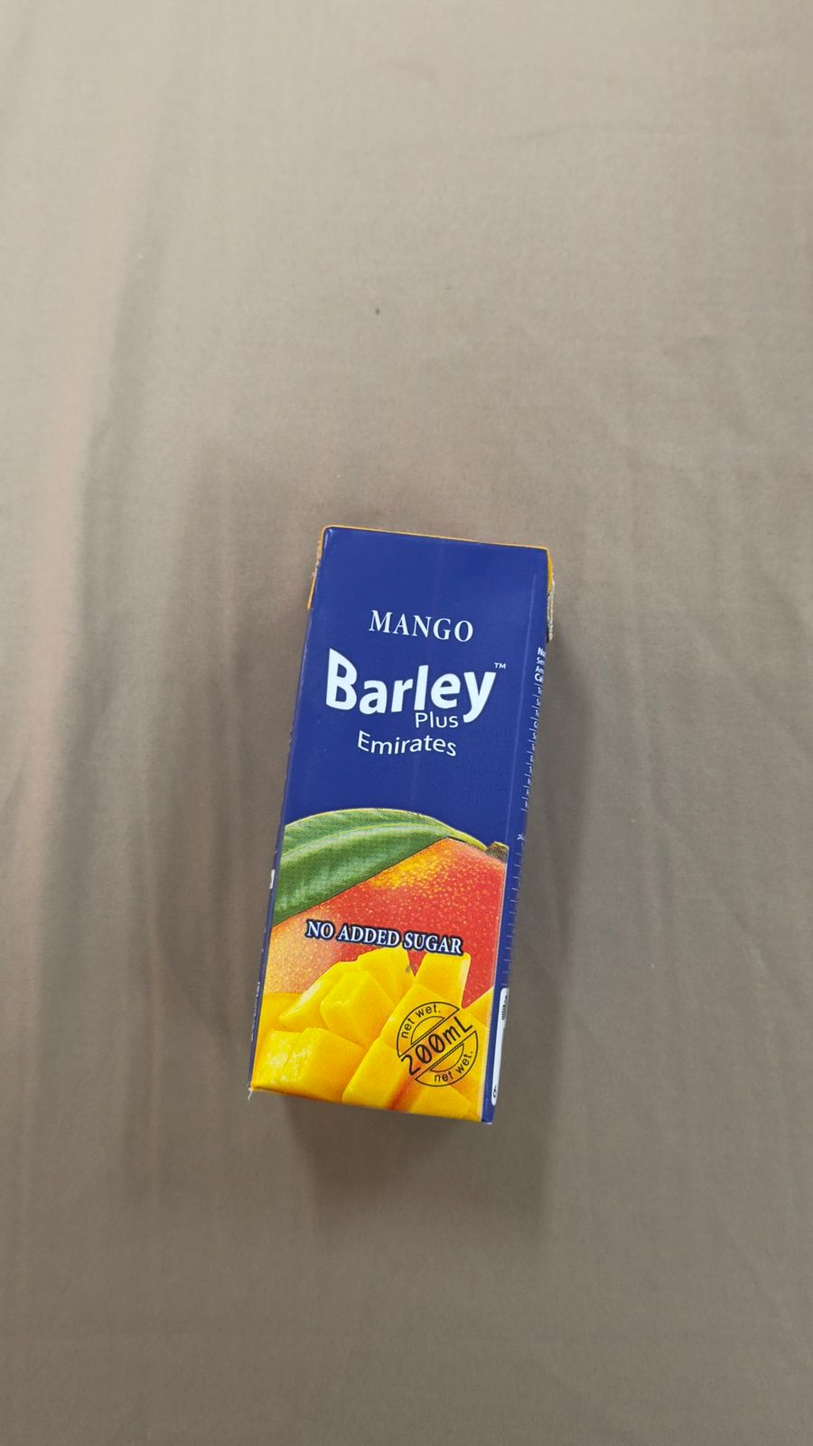plastic: (81, 357, 732, 1446)
